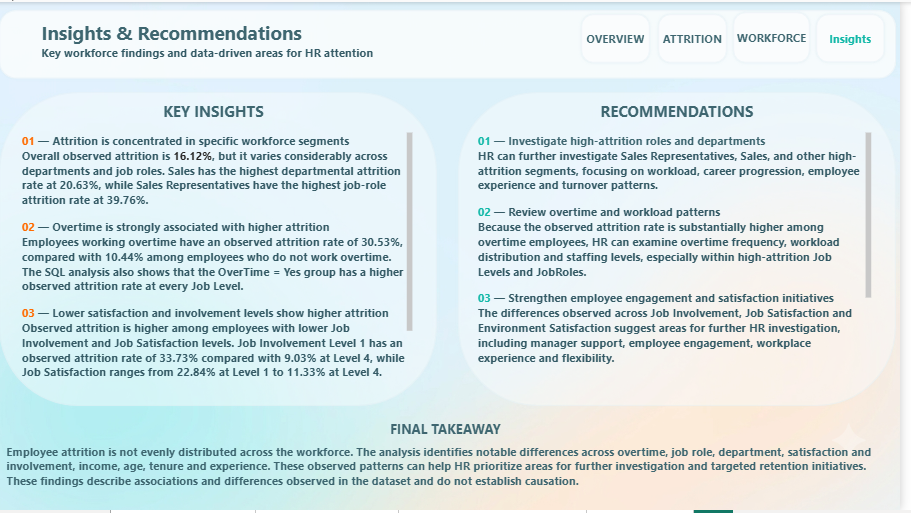

This screenshot's page, from the dashboard's own definition file:
{"tool":"powerbi","page":{"name":"Key Insights","canvas":[1280,720],"ordinal":3},"visuals":[{"type":"group","id":"g1","title":"Group 4","box":[0,7.1,1280,105.8],"z":0},{"type":"shape","box":[0,7.1,1280,105.8],"z":0,"group":"g1"},{"type":"shape","box":[824.9,13.2,106.3,78],"z":0,"group":"g2"},{"type":"textbox","box":[9.9,586.8,1254.3,123.3],"z":0,"group":"g3"},{"type":"group","id":"g2","title":"Group 2","box":[824.9,10.4,439.4,80.8],"z":1000},{"type":"shape","box":[934,13.2,106.3,78],"z":1000,"group":"g2"},{"type":"textbox","box":[60.1,20,536.3,77.2],"z":1000,"group":"g1"},{"type":"textbox","box":[9.9,586.8,1254.3,39.7],"z":1000,"group":"g3"},{"type":"shape","box":[1040.3,10.4,117.6,80.8],"z":2000,"group":"g2"},{"type":"shape","box":[0,123.3,629.3,453.5],"z":2000,"group":"g5"},{"type":"group","id":"g3","title":"Group 1","box":[9.9,586.8,1254.3,123.3],"z":2000},{"type":"shape","box":[1158.5,12.9,105.8,77.2],"z":3000,"group":"g2"},{"type":"group","id":"g4","title":"Group 3","box":[650.6,123.3,629.3,453.5],"z":3000},{"type":"shape","box":[650.6,123.3,629.3,453.5],"z":3000,"group":"g4"},{"type":"group","id":"g5","title":"Group 5","box":[0,123.3,629.3,453.5],"z":4000},{"type":"textbox","box":[100.6,134.6,415.3,45.4],"z":4000,"group":"g5"},{"type":"textbox","box":[31.2,180,564.1,374.2],"z":5000,"group":"g5"},{"type":"textbox","box":[718.6,134.6,493.2,45.4],"z":6000,"group":"g4"},{"type":"textbox","box":[677.5,180,568.3,348.7],"z":7000,"group":"g4"}]}

Visuals, with their boxes in screenshot pixels (x1, y1, x2, y2), scaled from the page's 1280x720 canvas onto the 911x513 screenshot:
"Group 4" group: detection(0, 5, 910, 80)
shape: detection(0, 5, 910, 80)
shape: detection(587, 9, 663, 65)
textbox: detection(7, 418, 900, 506)
"Group 2" group: detection(587, 7, 900, 65)
shape: detection(665, 9, 740, 65)
textbox: detection(43, 14, 424, 69)
textbox: detection(7, 418, 900, 446)
shape: detection(740, 7, 824, 65)
shape: detection(0, 88, 448, 411)
"Group 1" group: detection(7, 418, 900, 506)
shape: detection(825, 9, 900, 64)
"Group 3" group: detection(463, 88, 910, 411)
shape: detection(463, 88, 910, 411)
"Group 5" group: detection(0, 88, 448, 411)
textbox: detection(72, 96, 367, 128)
textbox: detection(22, 128, 424, 395)
textbox: detection(511, 96, 862, 128)
textbox: detection(482, 128, 887, 377)
